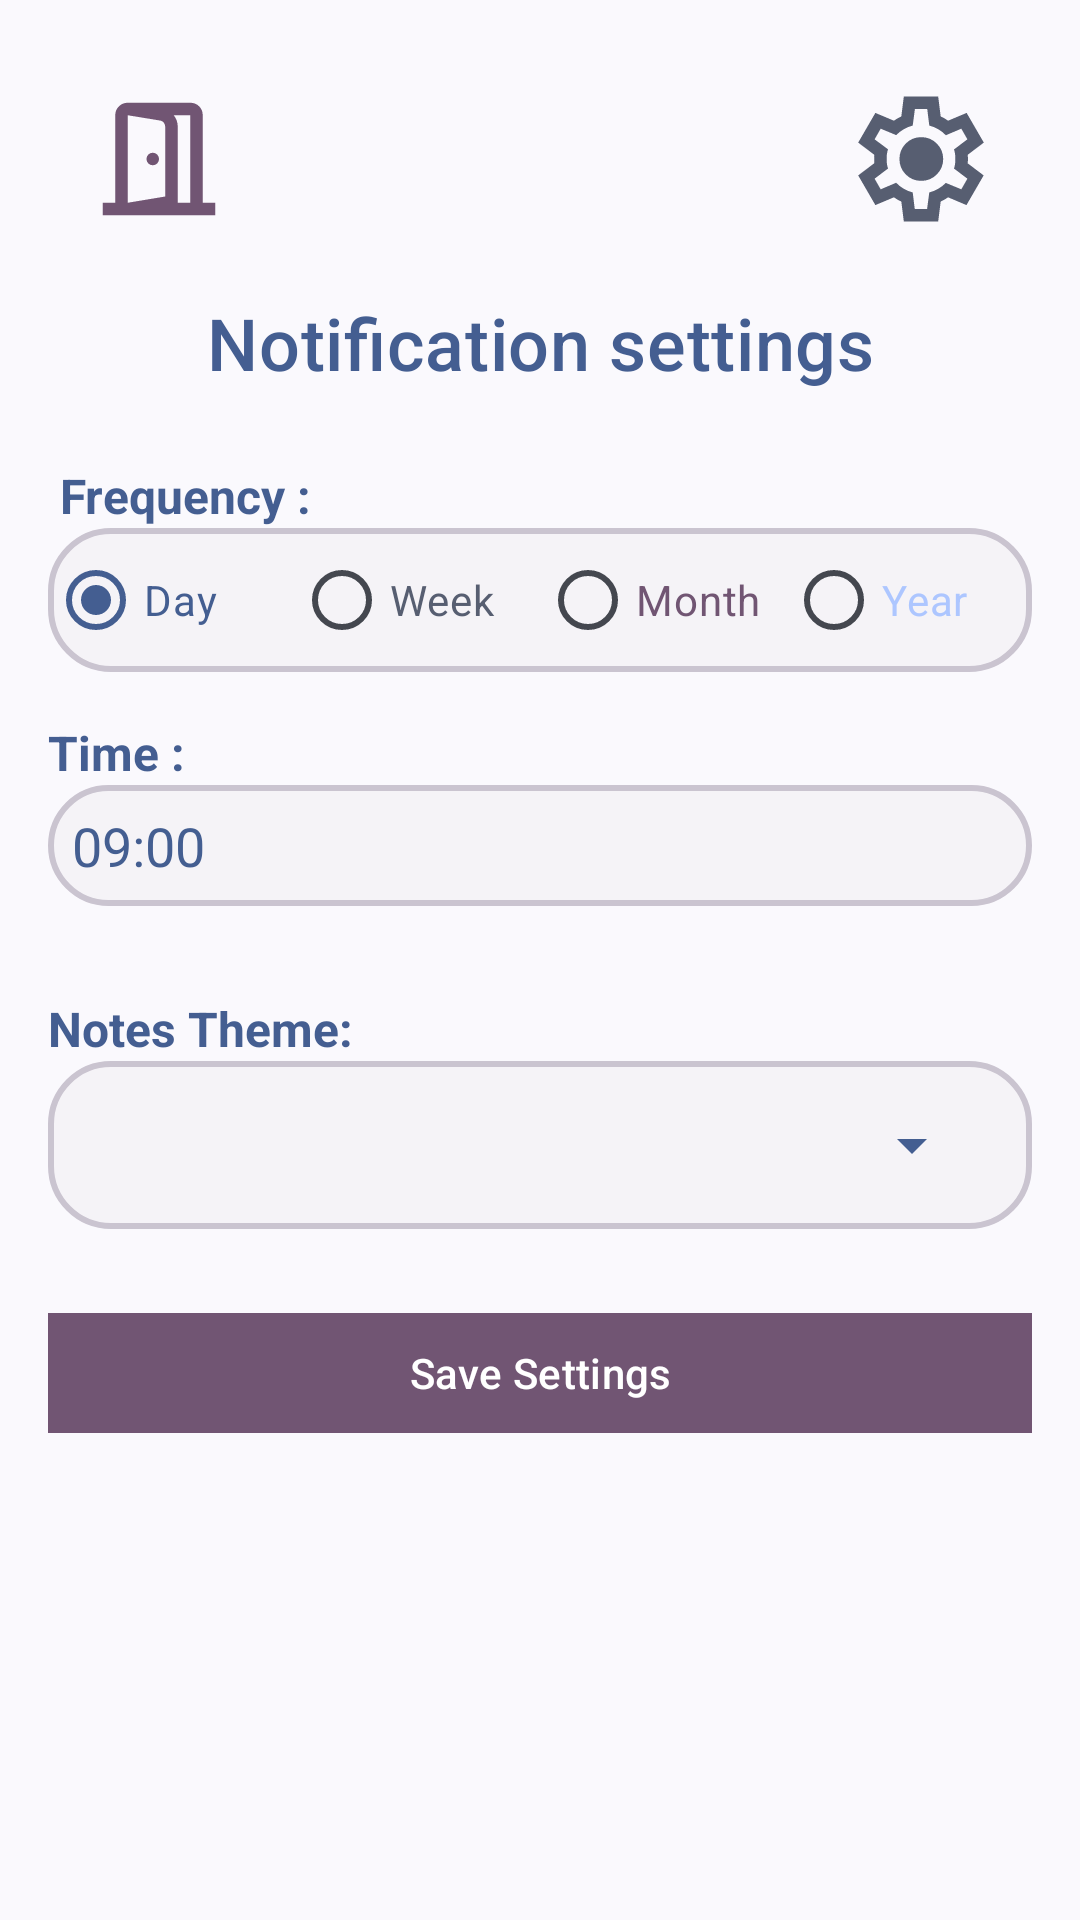

Icons on this 1080×1920 Android screen, each with the point to tap as point (x, y):
door open: point (159, 159)
